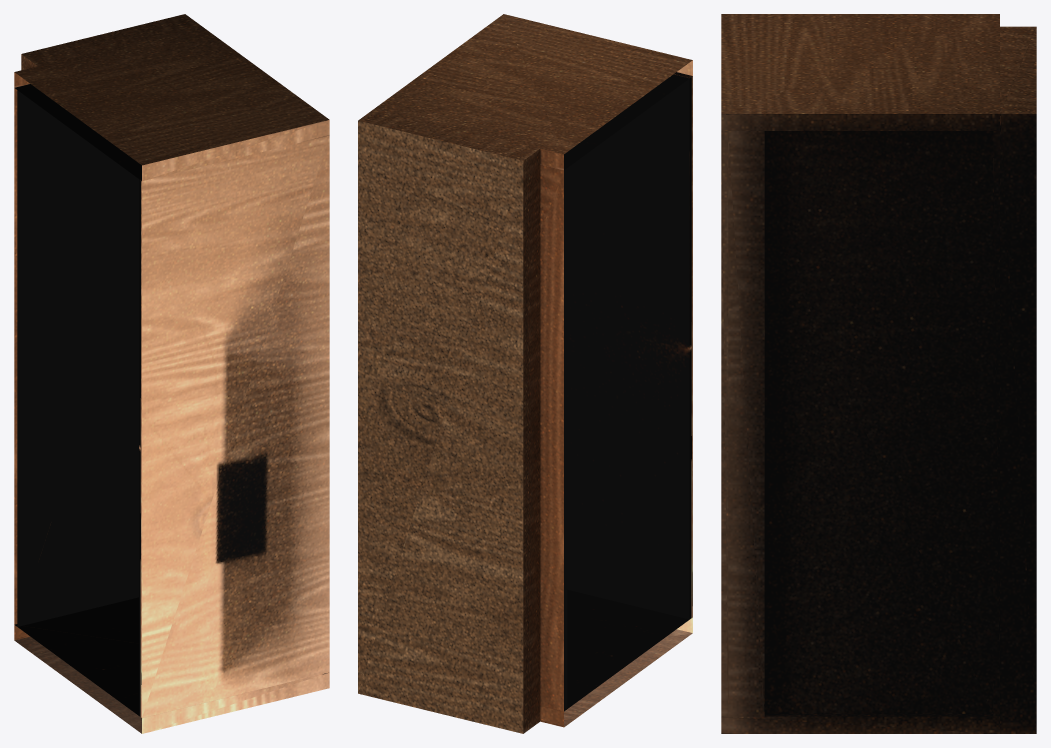
The model's file is free_13_cabinet_floor_none_motion_z_up.obj.
3 views of the same model, side by side, from view 1: azimuth 30°, elevation 25°; view 2: azimuth 150°, elevation 25°; view 3: azimuth 270°, elevation 25° (orthographic). The views are drawn at different scales.
Parts seen in each view (by area): view 1: free_13_cabinet_floor_none_motion; view 2: free_13_cabinet_floor_none_motion; view 3: free_13_cabinet_floor_none_motion.
Part boxes in pixels (left/top/right/bottom): free_13_cabinet_floor_none_motion: left=14, top=14, right=329, bottom=733; free_13_cabinet_floor_none_motion: left=358, top=14, right=692, bottom=733; free_13_cabinet_floor_none_motion: left=721, top=14, right=1036, bottom=733.
Bounding box in the file's own units: 0.57 × 1.65 × 0.76.
Materials: 1 (1 with a texture image).
